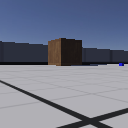blue_cube: (118, 61, 124, 66)
obstacle: (48, 38, 81, 66)
